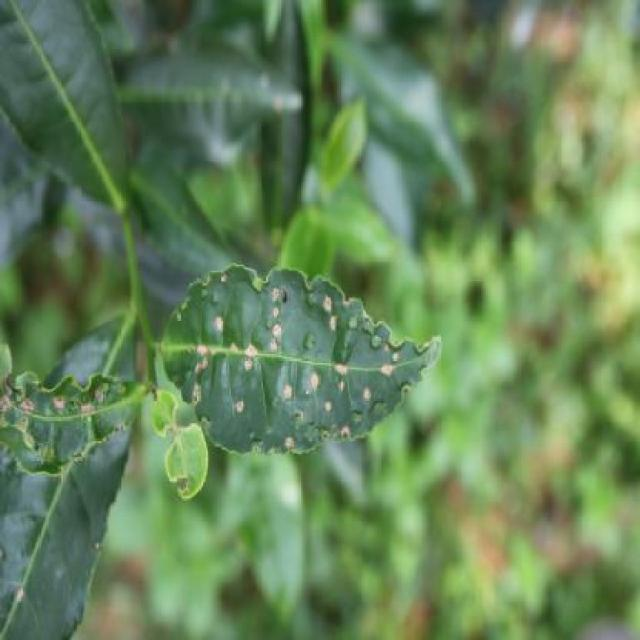Tea Mosquito bug infested leaf: (177, 242, 441, 476), (0, 355, 148, 483)
